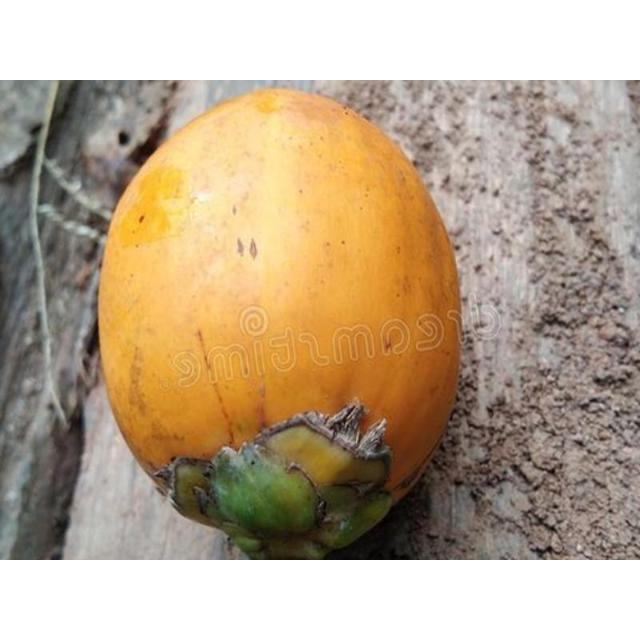good: (96, 88, 462, 559)
